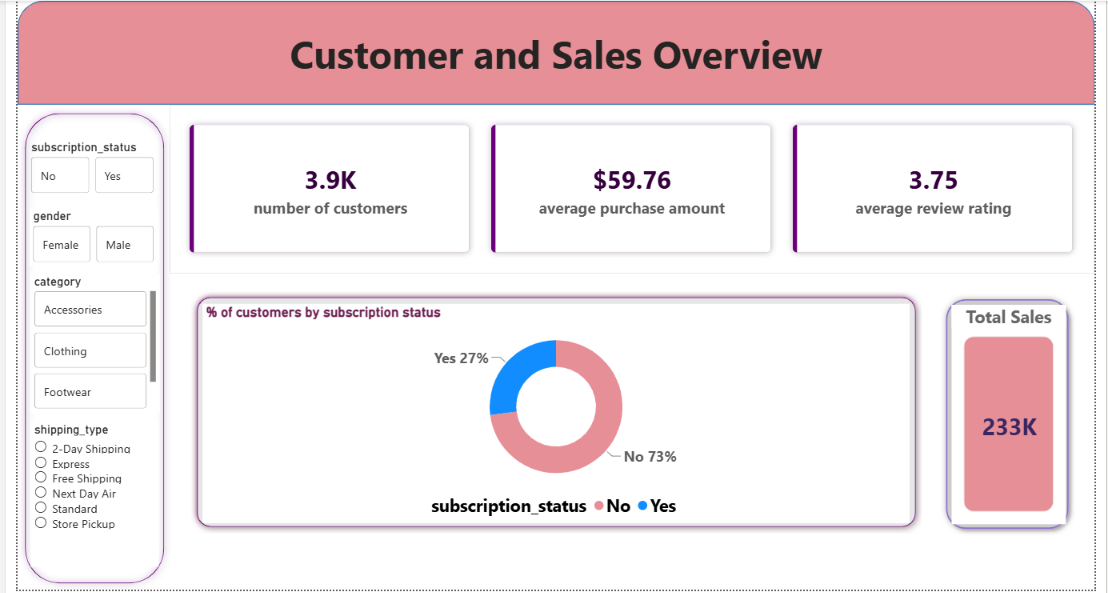

This screenshot's page, from the dashboard's own definition file:
{"tool":"powerbi","page":{"name":"Page 1","canvas":[1500,820],"ordinal":0},"visuals":[{"type":"cardVisual","fields":{"Data":["public customer.number of customers","public customer.average purchase amount","public customer.average review rating"]},"box":[212.3,144.6,1287.7,234.9],"z":0},{"type":"shape","box":[0,0,1500,144.6],"z":1000},{"type":"shape","box":[240.6,403.8,1018.8,337.7],"z":2000},{"type":"textbox","box":[0,31.6,1500,113],"z":3000},{"type":"donutChart","title":"% of customers by subscription status","fields":{"Category":["public customer.subscription_status"],"Y":["CountNonNull(public customer.customer_id)"]},"box":[257.5,422.1,985,305.3],"z":4000},{"type":"advancedSlicerVisual","fields":{"Values":["public customer.subscription_status"]},"box":[13.9,193.6,181,79.4],"z":5000},{"type":"shape","box":[1.4,147.6,211.7,672.7],"z":6000},{"type":"advancedSlicerVisual","fields":{"Values":["public customer.gender"]},"box":[16.7,289.7,179.7,79.4],"z":7000},{"type":"advancedSlicerVisual","fields":{"Values":["public customer.category"]},"box":[18.1,380.2,179.7,193.6],"z":8000},{"type":"listSlicer","fields":{"Values":["public customer.shipping_type"]},"box":[18.1,586.3,178.3,201.9],"z":9000},{"type":"shape","box":[1284.7,406.7,188.6,337.7],"z":9500},{"type":"cardVisual","title":"Total Sales","fields":{"Data":["Sum(public customer.purchase_amount)"]},"box":[1300.2,423.5,159,305.3],"z":10000}]}

Visuals, with their boxes in screenshot pixels (x1, y1, x2, y2), scaled from the page's 1500x820 canvas onto the 1108x593 screenshot:
cardVisual - public customer.number of customers x public customer.average purchase amount: select_region(157, 105, 1107, 274)
shape: select_region(0, 0, 1107, 105)
shape: select_region(178, 292, 930, 536)
textbox: select_region(0, 23, 1107, 105)
"% of customers by subscription status" donutChart: select_region(190, 305, 918, 526)
advancedSlicerVisual - public customer.subscription_status: select_region(10, 140, 144, 197)
shape: select_region(1, 107, 157, 592)
advancedSlicerVisual - public customer.gender: select_region(12, 210, 145, 267)
advancedSlicerVisual - public customer.category: select_region(13, 275, 146, 415)
listSlicer - public customer.shipping_type: select_region(13, 424, 145, 570)
shape: select_region(949, 294, 1088, 538)
"Total Sales" cardVisual: select_region(960, 306, 1078, 527)
